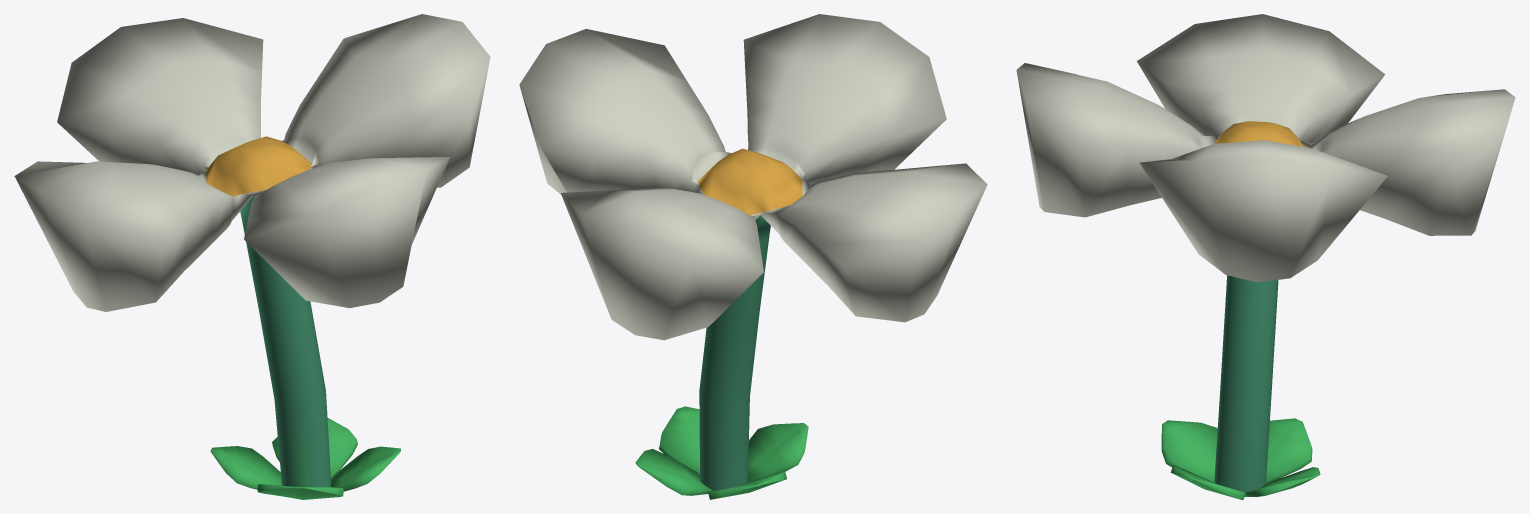
The model's file is WhiteFlower.fbx.
3 views of the same model, side by side, from view 1: azimuth 30°, elevation 25°; view 2: azimuth 150°, elevation 25°; view 3: azimuth 270°, elevation 25° (orthographic). The views are drawn at different scales.
Parts seen in each view (by area): view 1: BlueFlower.114; view 2: BlueFlower.114; view 3: BlueFlower.114.
Part boxes in pixels (box(x1,y1,x2,y2)): BlueFlower.114: box(14, 14, 490, 499); BlueFlower.114: box(519, 14, 987, 499); BlueFlower.114: box(1016, 14, 1515, 499).
Bounding box in the file's own units: 102 × 96 × 105.
